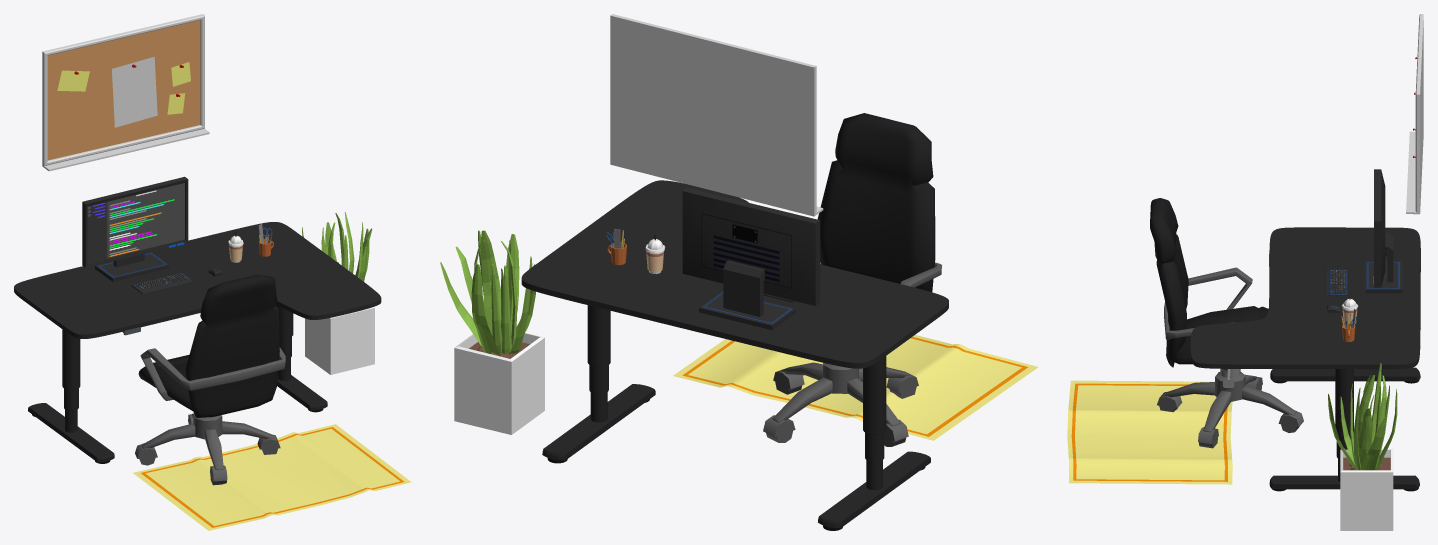
The model's file is office.gltf.
3 renders of one model, left to right at view 1: azimuth 30°, elevation 25°; view 2: azimuth 150°, elevation 25°; view 3: azimuth 270°, elevation 25°, orthographic. The views are drawn at different scales.
Parts seen in each view (by area): view 1: Message_Board, Plane.001_Plane.002, Computer Chair, Carpet_1, MonitorScreen, group1885116500, Monitor, Cube_Cube.001, Cylinder.003, Cube.006_Cube.007, Keyboard1; view 2: Message_Board, Plane.001_Plane.002, Computer Chair, Monitor, Carpet_1, group1885116500, Cube.006_Cube.007, Cube_Cube.001, Cylinder.003, Cylinder.010, group560799048, group714662036; view 3: Plane.001_Plane.002, Carpet_1, Computer Chair, group1885116500, Monitor, Message_Board, Cube_Cube.001, Cube.006_Cube.007, Cylinder.010, Keyboard1, group31856083, group24448074 (+1 smaller).
Boxes of the visible parts, <box> form: Message_Board: <box>42,14,209,171</box>; Plane.001_Plane.002: <box>14,222,381,338</box>; Computer Chair: <box>135,274,285,485</box>; Carpet_1: <box>133,424,411,530</box>; MonitorScreen: <box>87,183,184,262</box>; group1885116500: <box>305,307,374,374</box>; Monitor: <box>82,176,188,281</box>; Cube_Cube.001: <box>28,403,114,462</box>; Cylinder.003: <box>62,329,80,389</box>; Cube.006_Cube.007: <box>277,375,327,410</box>; Keyboard1: <box>131,273,192,294</box>; Message_Board: <box>610,14,823,216</box>; Plane.001_Plane.002: <box>521,180,948,368</box>; Computer Chair: <box>763,113,942,446</box>; Monitor: <box>682,188,820,330</box>; Carpet_1: <box>673,335,1038,440</box>; group1885116500: <box>454,333,544,434</box>; Cube.006_Cube.007: <box>542,384,655,460</box>; Cube_Cube.001: <box>818,451,930,528</box>; Cylinder.003: <box>863,356,886,434</box>; Cylinder.010: <box>587,305,610,366</box>; group560799048: <box>480,230,501,335</box>; group714662036: <box>471,264,499,355</box>; Plane.001_Plane.002: <box>1190,227,1420,369</box>; Carpet_1: <box>1067,380,1232,484</box>; Computer Chair: <box>1150,198,1303,448</box>; group1885116500: <box>1340,449,1393,530</box>; Monitor: <box>1365,169,1402,293</box>; Message_Board: <box>1406,14,1423,214</box>; Cube_Cube.001: <box>1270,367,1420,381</box>; Cube.006_Cube.007: <box>1269,475,1419,489</box>; Cylinder.010: <box>1335,369,1353,438</box>; Keyboard1: <box>1325,269,1347,295</box>; group31856083: <box>1360,417,1386,470</box>; group24448074: <box>1358,408,1374,470</box>.
Size of the model in its own units: 2.54 by 2.52 by 2.2.
Materials: 19 (5 with a texture image).
